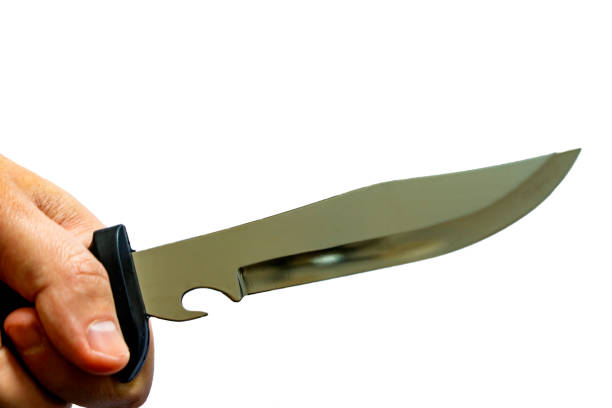knife: (0, 147, 585, 385)
